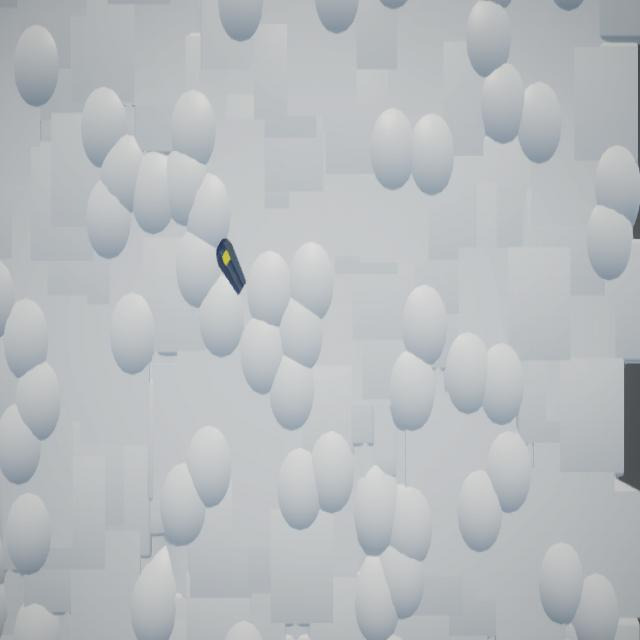handle_folk: (217, 239, 248, 297)
